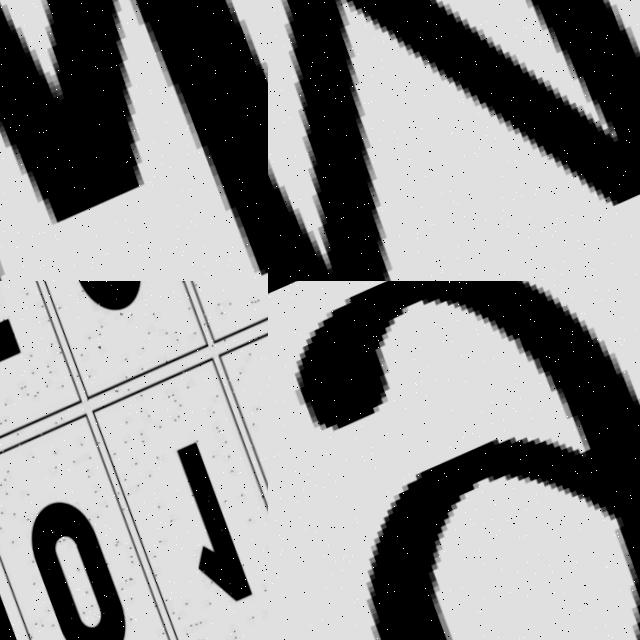0: (15, 487, 157, 640)
1: (153, 435, 268, 621)
5: (0, 281, 41, 383)
6: (24, 281, 165, 327)
9: (268, 281, 640, 640)
M: (268, 0, 640, 281)
W: (0, 0, 268, 281)
